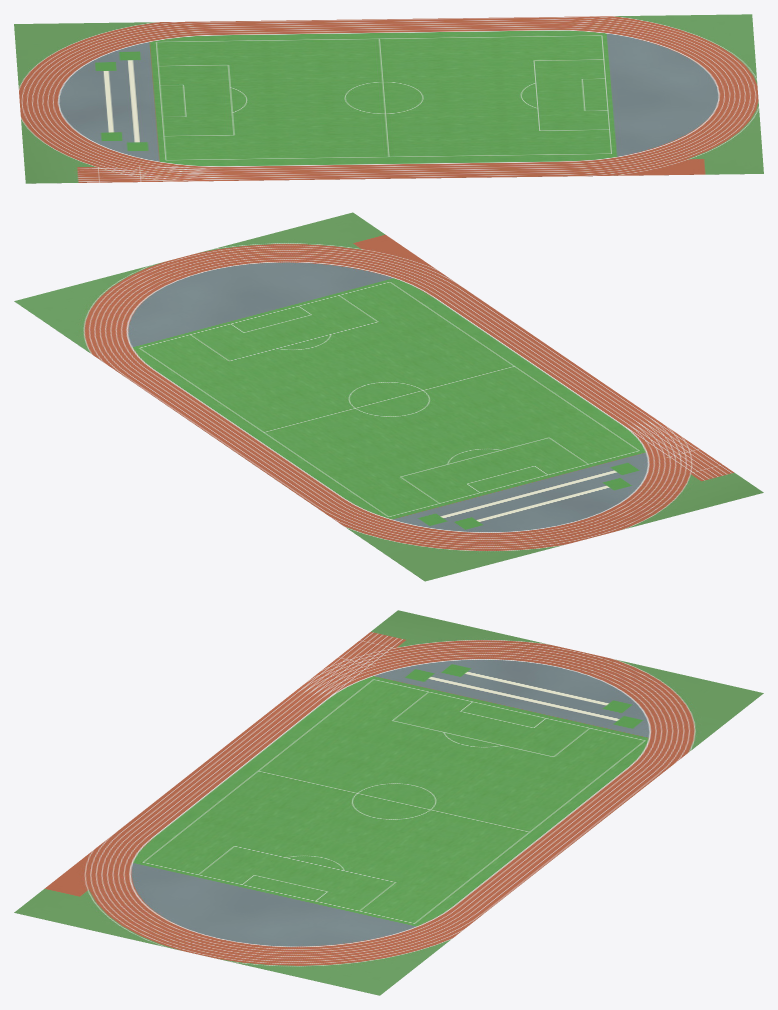
File: zuqiuchang.gltf
The picture shows the model from 3 angles, top to bottom: view 1: azimuth 30°, elevation 25°; view 2: azimuth 150°, elevation 25°; view 3: azimuth 270°, elevation 25°; orthographic projection. The views are drawn at different scales.
Parts seen in each view (by area): view 1: dx24; view 2: dx24; view 3: dx24.
Part boxes in pixels (x1,y1,x2,y2): dx24: [14, 14, 763, 183]; dx24: [14, 212, 763, 581]; dx24: [14, 610, 763, 995].
Size of the model in its own units: 862 by 0.07 by 709.
1 material, 1 textured.
